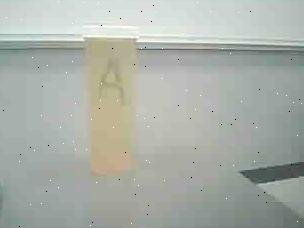Bottle A: (72, 17, 154, 180)
